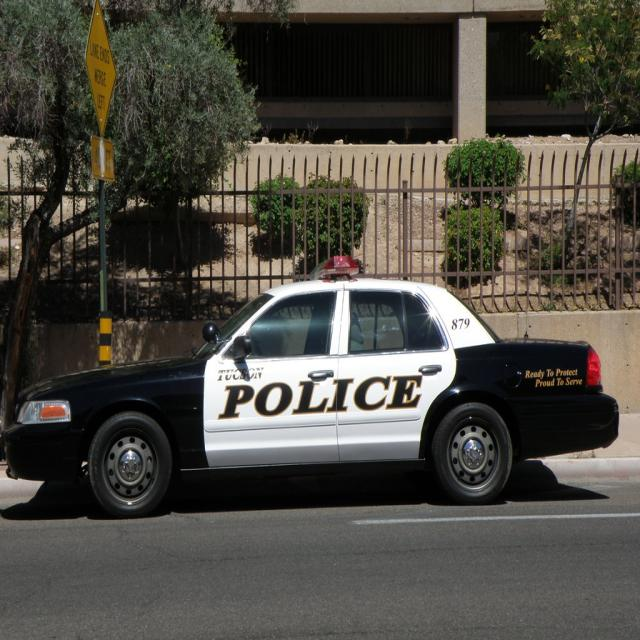car: (6, 253, 618, 516)
